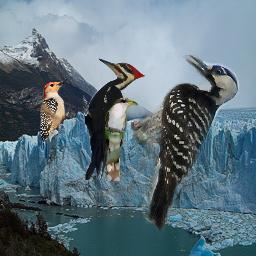Cuckoo: (104, 97, 138, 181)
Woodpecker: (131, 55, 240, 232), (83, 57, 148, 180), (40, 78, 69, 150)
